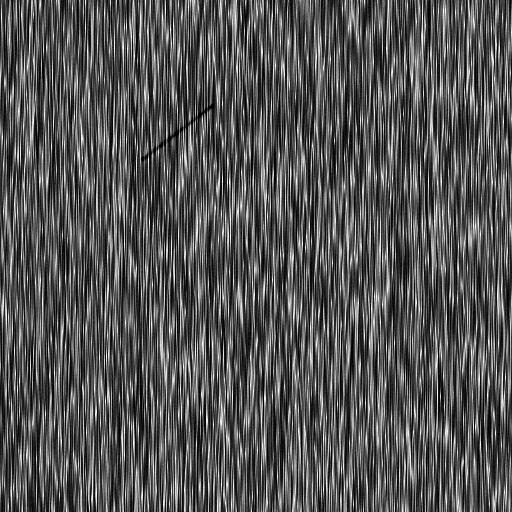DefectTypeC: (140, 103, 213, 160)
